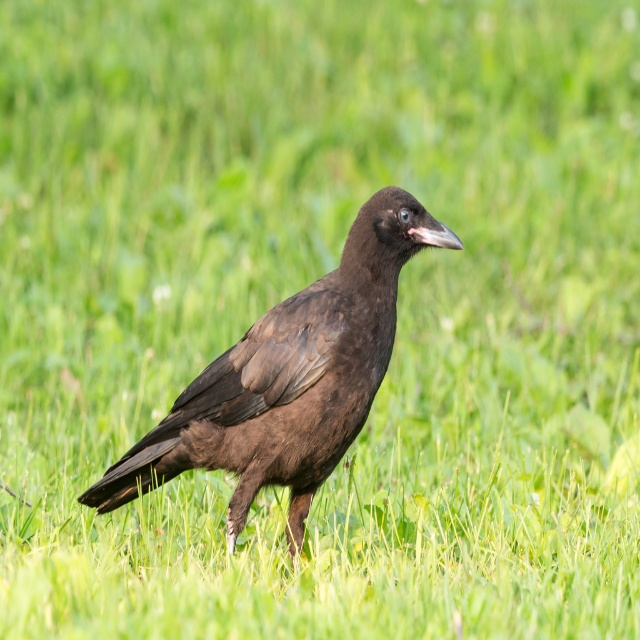Raven: (78, 186, 464, 569)
